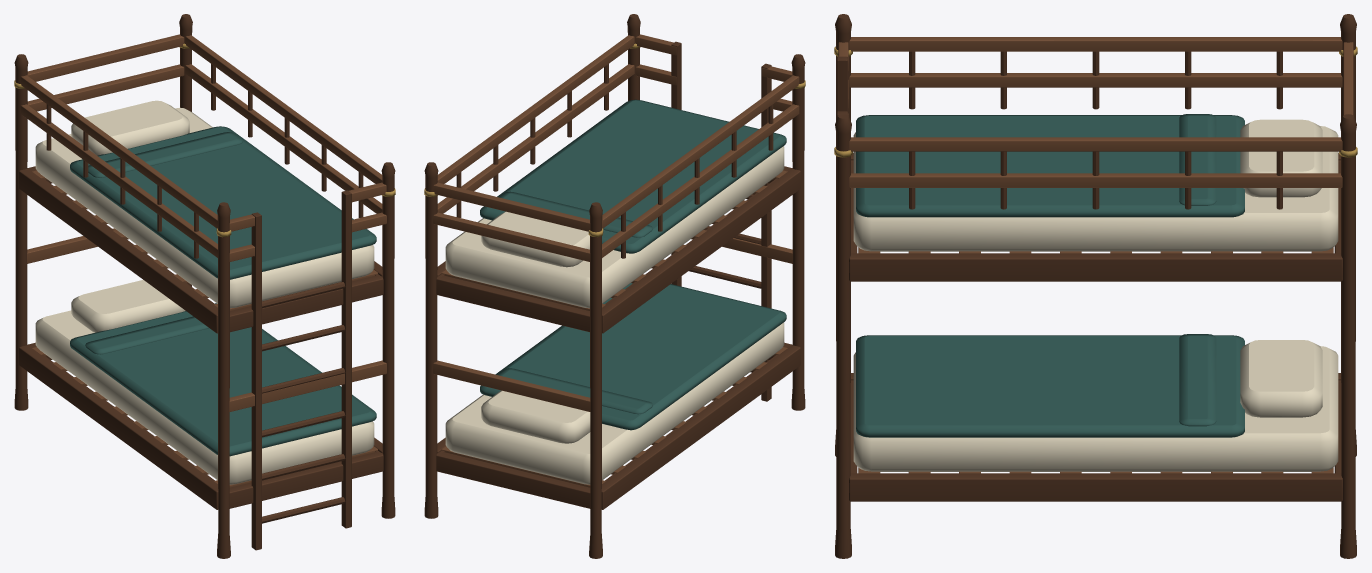
The model's file is rpg-mansion-adult-servants-bunk-bed-01.glb.
3 renders of one model, left to right at view 1: azimuth 30°, elevation 25°; view 2: azimuth 150°, elevation 25°; view 3: azimuth 270°, elevation 25°, orthographic. The views are drawn at different scales.
Visible parts, largest first — view 1: rpg-mansion-adult-servants-bunk-bed-01; view 2: rpg-mansion-adult-servants-bunk-bed-01; view 3: rpg-mansion-adult-servants-bunk-bed-01.
Part boxes in pixels (x1,y1,x2,y2): rpg-mansion-adult-servants-bunk-bed-01: [14, 14, 395, 558]; rpg-mansion-adult-servants-bunk-bed-01: [424, 14, 805, 558]; rpg-mansion-adult-servants-bunk-bed-01: [834, 14, 1357, 558].
Bounding box in the file's own units: 1.04 × 1.97 × 2.13.
